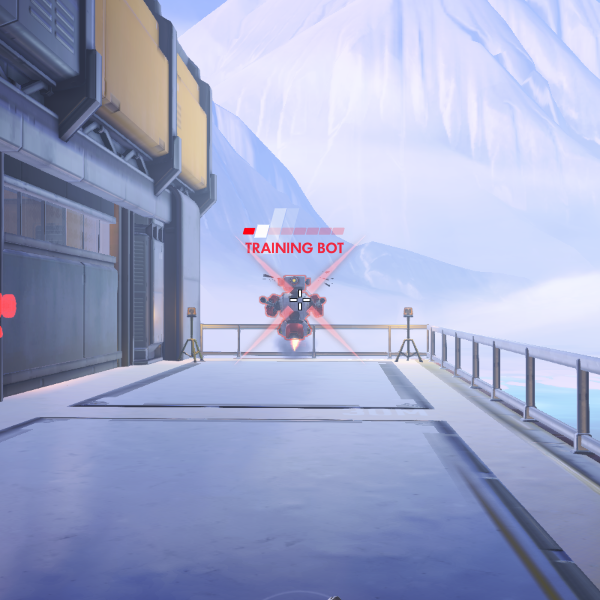hpbar: (242, 227, 345, 235)
